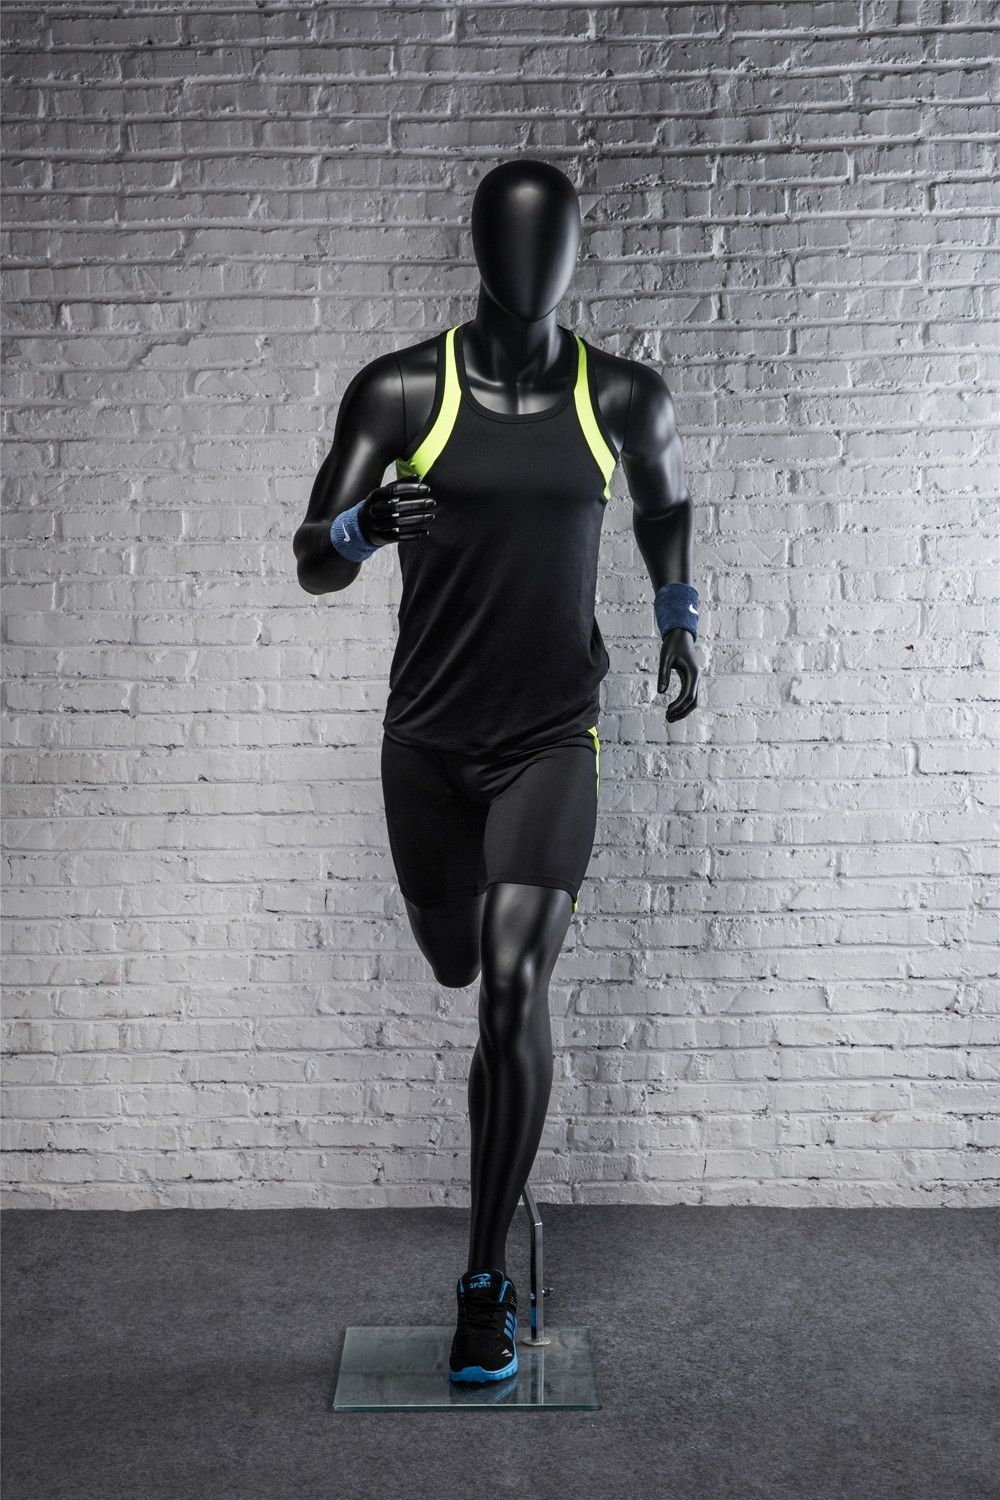person-like: (264, 132, 724, 1404)
